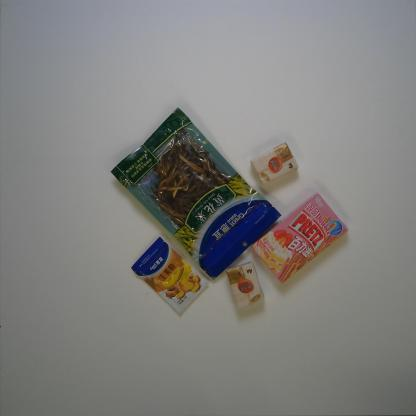Dessert: (251, 192, 348, 285)
Dried Food: (110, 106, 282, 281)
Seasoner: (130, 235, 210, 314)
Tissue: (250, 142, 298, 186), (225, 261, 265, 309)
